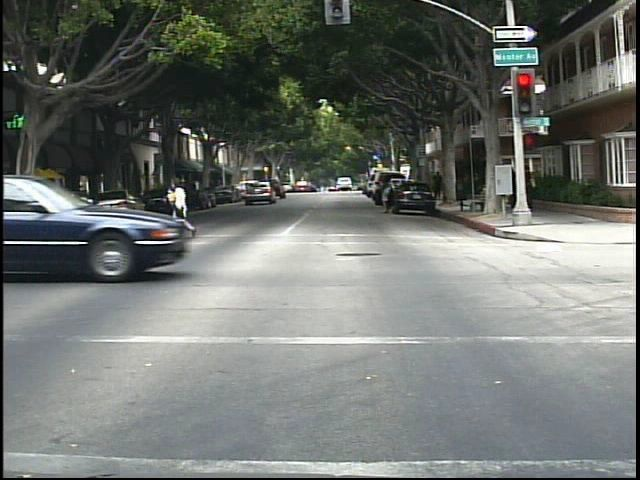person: (164, 172, 204, 239), (373, 172, 398, 216), (433, 168, 448, 200)
